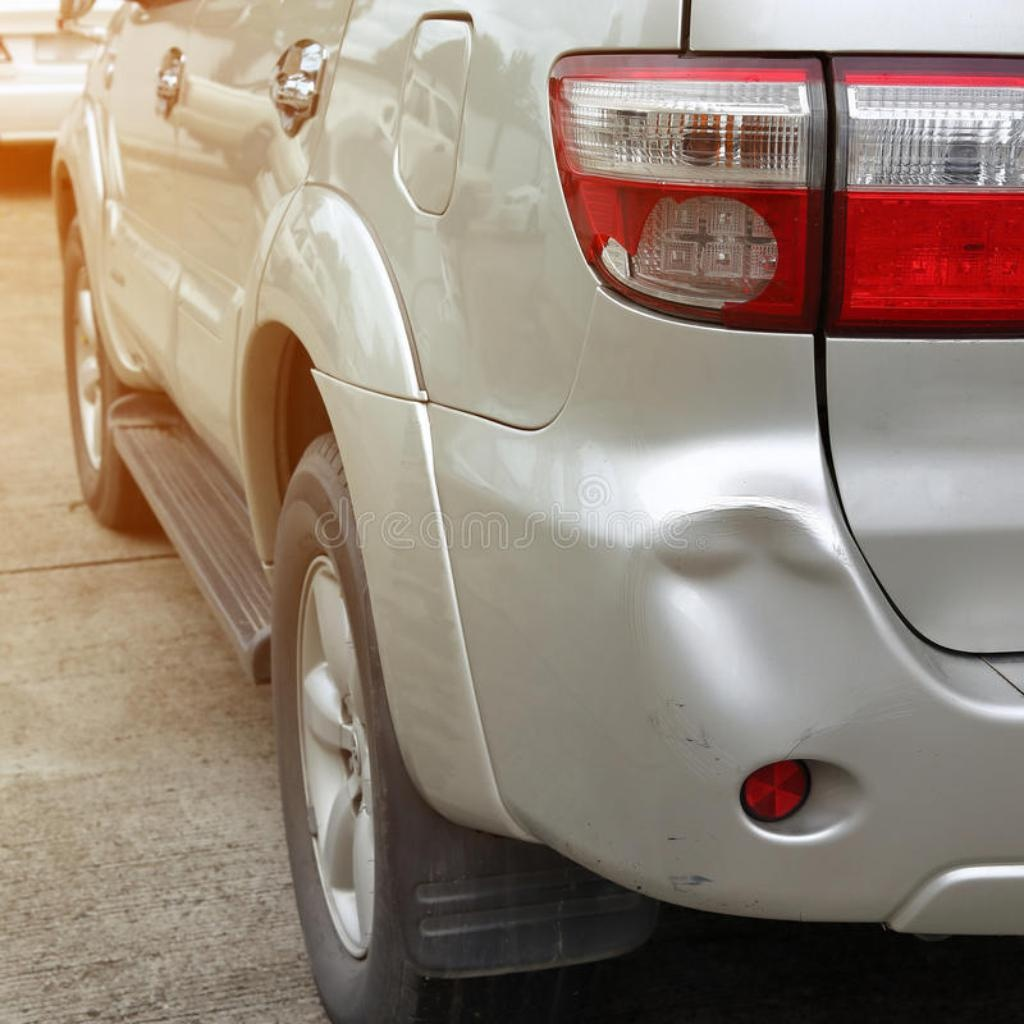Broken-glass: (637, 499, 931, 760)
Scratch: (657, 825, 726, 891)
